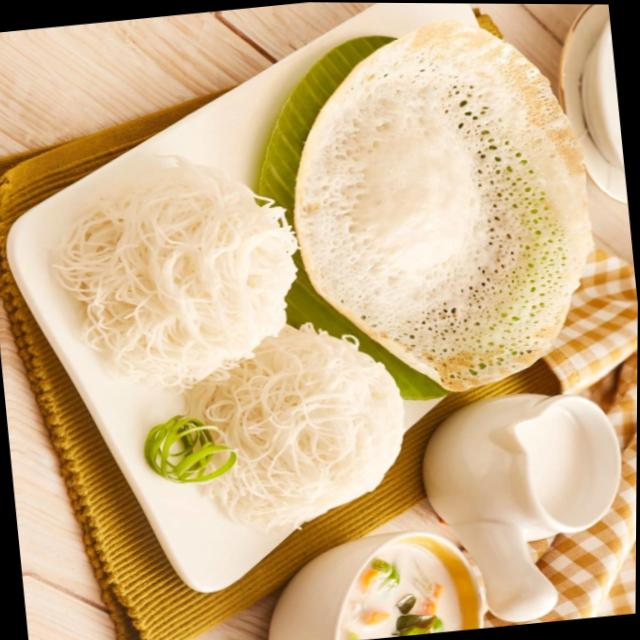AAPAM: (299, 14, 596, 391)
CURRY: (336, 547, 465, 640)
IDIYAPPAM: (49, 161, 403, 529)
